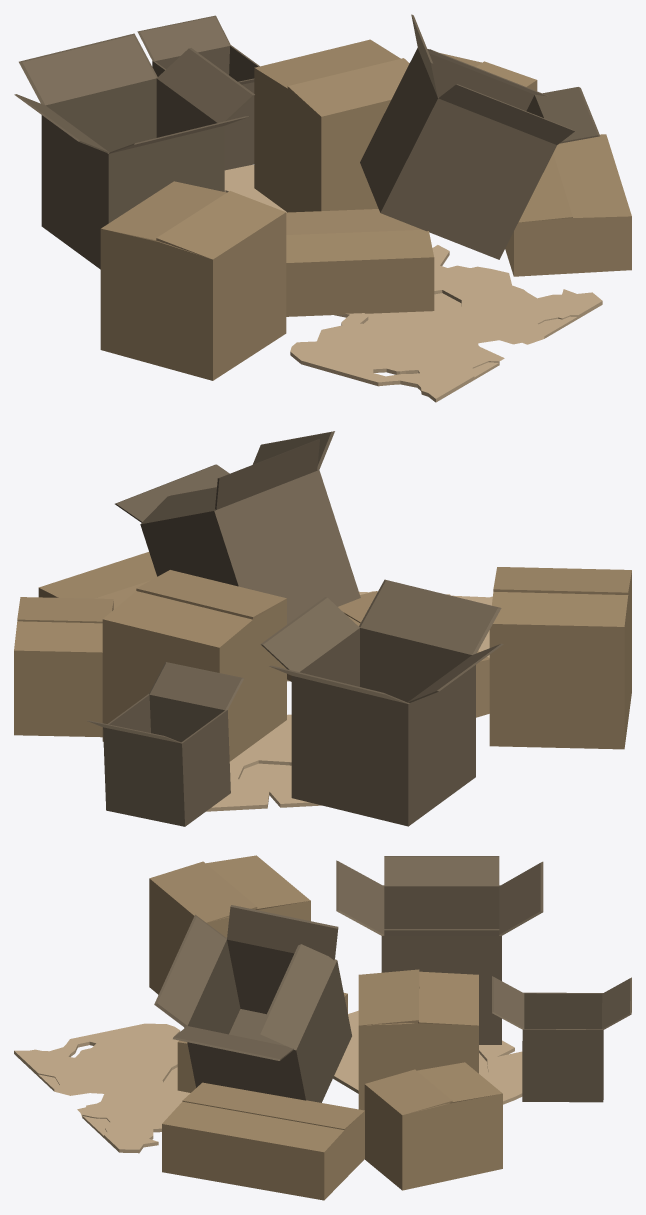
Rendered from carboard boxes (1).fbx.
The picture shows the model from 3 angles, top to bottom: view 1: azimuth 30°, elevation 25°; view 2: azimuth 150°, elevation 25°; view 3: azimuth 270°, elevation 25°; orthographic projection. The views are drawn at different scales.
Parts seen in each view (by area): view 1: Cube.003, Cube.007, Cube.004, carbaord.001, Cube, Cube.002, Cube.005, Cube.001, carbaord, Cube.006; view 2: Cube.003, Cube.004, Cube.007, Cube, Cube.001, Cube.006, carbaord, Cube.005, Cube.002; view 3: Cube.004, Cube.003, Cube.005, Cube.006, carbaord.001, Cube, Cube.001, Cube.007, carbaord, Cube.002.
Part boxes in pixels (box(x1,y1,x2,y2)): Cube.003: box(14, 33, 254, 269); Cube.007: box(100, 181, 286, 380); Cube.004: box(360, 14, 599, 259); carbaord.001: box(290, 245, 602, 402); Cube: box(254, 39, 409, 212); Cube.002: box(286, 209, 434, 316); Cube.005: box(505, 134, 631, 276); Cube.001: box(137, 15, 259, 170); carbaord: box(224, 165, 286, 212); Cube.006: box(441, 53, 537, 90); Cube.003: box(260, 579, 503, 826); Cube.004: box(115, 431, 360, 624); Cube.007: box(489, 567, 631, 749); Cube: box(102, 570, 286, 761); Cube.001: box(87, 662, 244, 826); Cube.006: box(14, 597, 113, 737); carbaord: box(206, 714, 321, 811); Cube.005: box(38, 552, 157, 609); Cube.002: box(287, 591, 489, 717); Cube.004: box(154, 905, 351, 1102); Cube.003: box(336, 856, 543, 1044); Cube.005: box(162, 1082, 364, 1200); Cube.006: box(364, 1062, 502, 1190); carbaord.001: box(14, 1023, 190, 1153); Cube: box(358, 969, 478, 1110); Cube.001: box(492, 976, 631, 1102); Cube.007: box(149, 855, 310, 994); carbaord: box(333, 1010, 522, 1104); Cube.002: box(177, 993, 347, 1092).
Bounding box in the file's own units: 937 × 367 × 1029.
